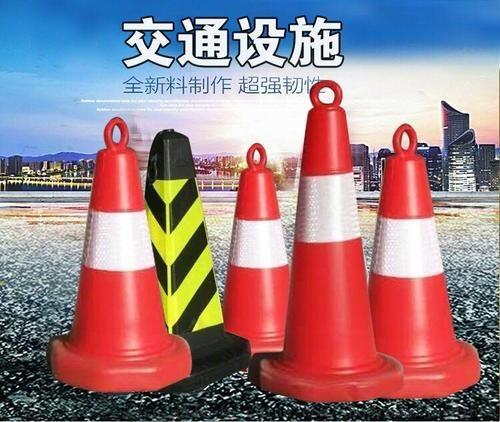cone_barrel: (275, 85, 384, 401), (52, 124, 182, 386), (366, 125, 475, 390), (138, 136, 234, 369), (220, 148, 292, 361)
